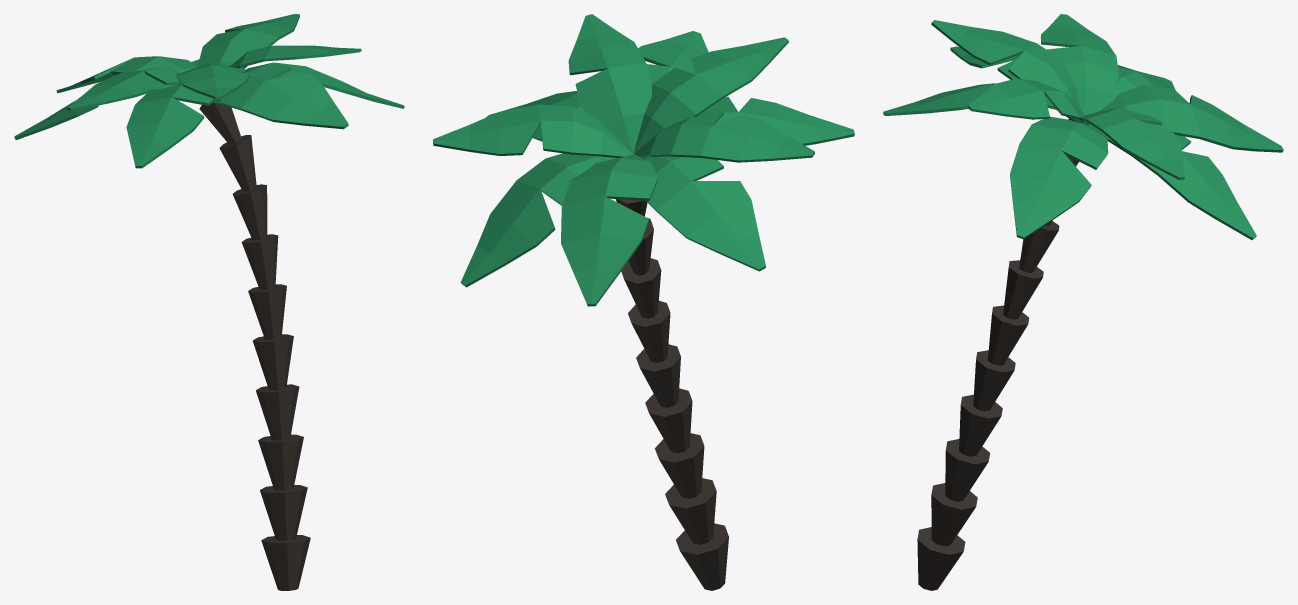
Rendered from Tree_PalmTree.fbx.
The picture shows the model from 3 angles, left to right: view 1: azimuth 30°, elevation 25°; view 2: azimuth 150°, elevation 25°; view 3: azimuth 270°, elevation 25°; orthographic projection. The views are drawn at different scales.
Parts seen in each view (by area): view 1: Palm.002, Leaf.022, Leaf.021, Leaf.025, Leaf.027, Leaf.028, Leaf.029, Leaf.026, Leaf.023, Leaf.020; view 2: Palm.002, Leaf.026, Leaf.020, Leaf.029, Leaf.024, Leaf.025, Leaf.028, Leaf.027, Leaf.021, Leaf.022, Leaf.023; view 3: Palm.002, Leaf.023, Leaf.026, Leaf.027, Leaf.028, Leaf.024, Leaf.025, Leaf.029, Leaf.022, Leaf.020, Leaf.021.
Part boxes in pixels (box(x1,y1,x2,y2)): Palm.002: box(199, 102, 310, 590); Leaf.022: box(214, 62, 348, 129); Leaf.021: box(126, 84, 216, 168); Leaf.025: box(198, 14, 299, 68); Leaf.027: box(67, 67, 181, 110); Leaf.028: box(176, 63, 248, 99); Leaf.029: box(230, 45, 361, 68); Leaf.026: box(56, 56, 196, 93); Leaf.023: box(274, 62, 404, 108); Leaf.020: box(14, 74, 177, 139); Palm.002: box(615, 199, 728, 590); Leaf.026: box(561, 154, 657, 306); Leaf.020: box(640, 156, 765, 271); Leaf.029: box(568, 14, 651, 154); Leaf.024: box(460, 153, 617, 287); Leaf.025: box(433, 104, 633, 157); Leaf.028: box(634, 37, 788, 153); Leaf.027: box(634, 111, 814, 162); Leaf.021: box(705, 96, 854, 145); Leaf.022: box(638, 31, 708, 83); Leaf.023: box(486, 91, 584, 141); Palm.002: box(917, 118, 1079, 590); Leaf.023: box(1010, 116, 1108, 239); Leaf.026: box(1099, 85, 1283, 152); Leaf.027: box(1040, 14, 1118, 114); Leaf.028: box(931, 20, 1080, 108); Leaf.024: box(1088, 124, 1256, 239); Leaf.025: box(1080, 108, 1184, 179); Leaf.029: box(967, 78, 1088, 124); Leaf.022: box(883, 83, 1079, 121); Leaf.020: box(1100, 65, 1175, 110); Leaf.021: box(950, 46, 1071, 118).
Bounding box in the file's own units: 192 × 292 × 199.
